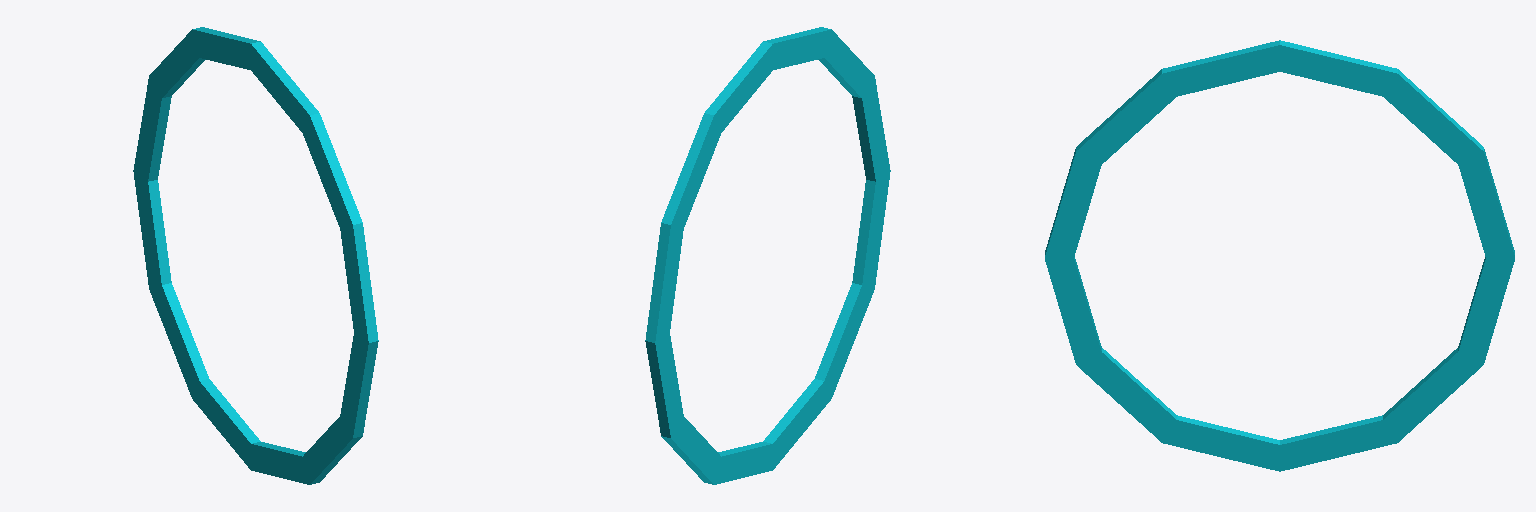
File: Beam_Anim.obj
3 views of the same model, side by side, from view 1: azimuth 30°, elevation 25°; view 2: azimuth 150°, elevation 25°; view 3: azimuth 270°, elevation 25° (orthographic).
Visible parts, largest first — view 1: Beam_Anim; view 2: Beam_Anim; view 3: Beam_Anim.
Part boxes in pixels (x1,y1,x2,y2): Beam_Anim: (133, 27, 378, 484); Beam_Anim: (645, 27, 890, 484); Beam_Anim: (1045, 40, 1514, 471).
Bounding box in the file's own units: 0.1142 × 4.7 × 4.7.